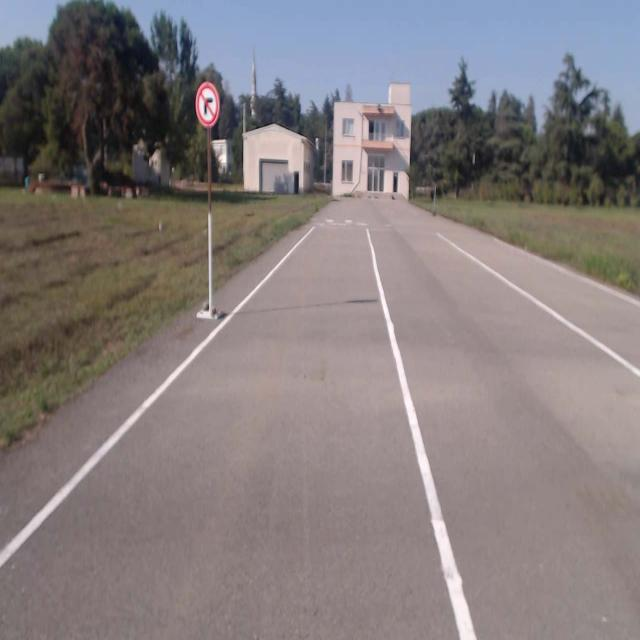sagadonulmez: (197, 83, 219, 127)
